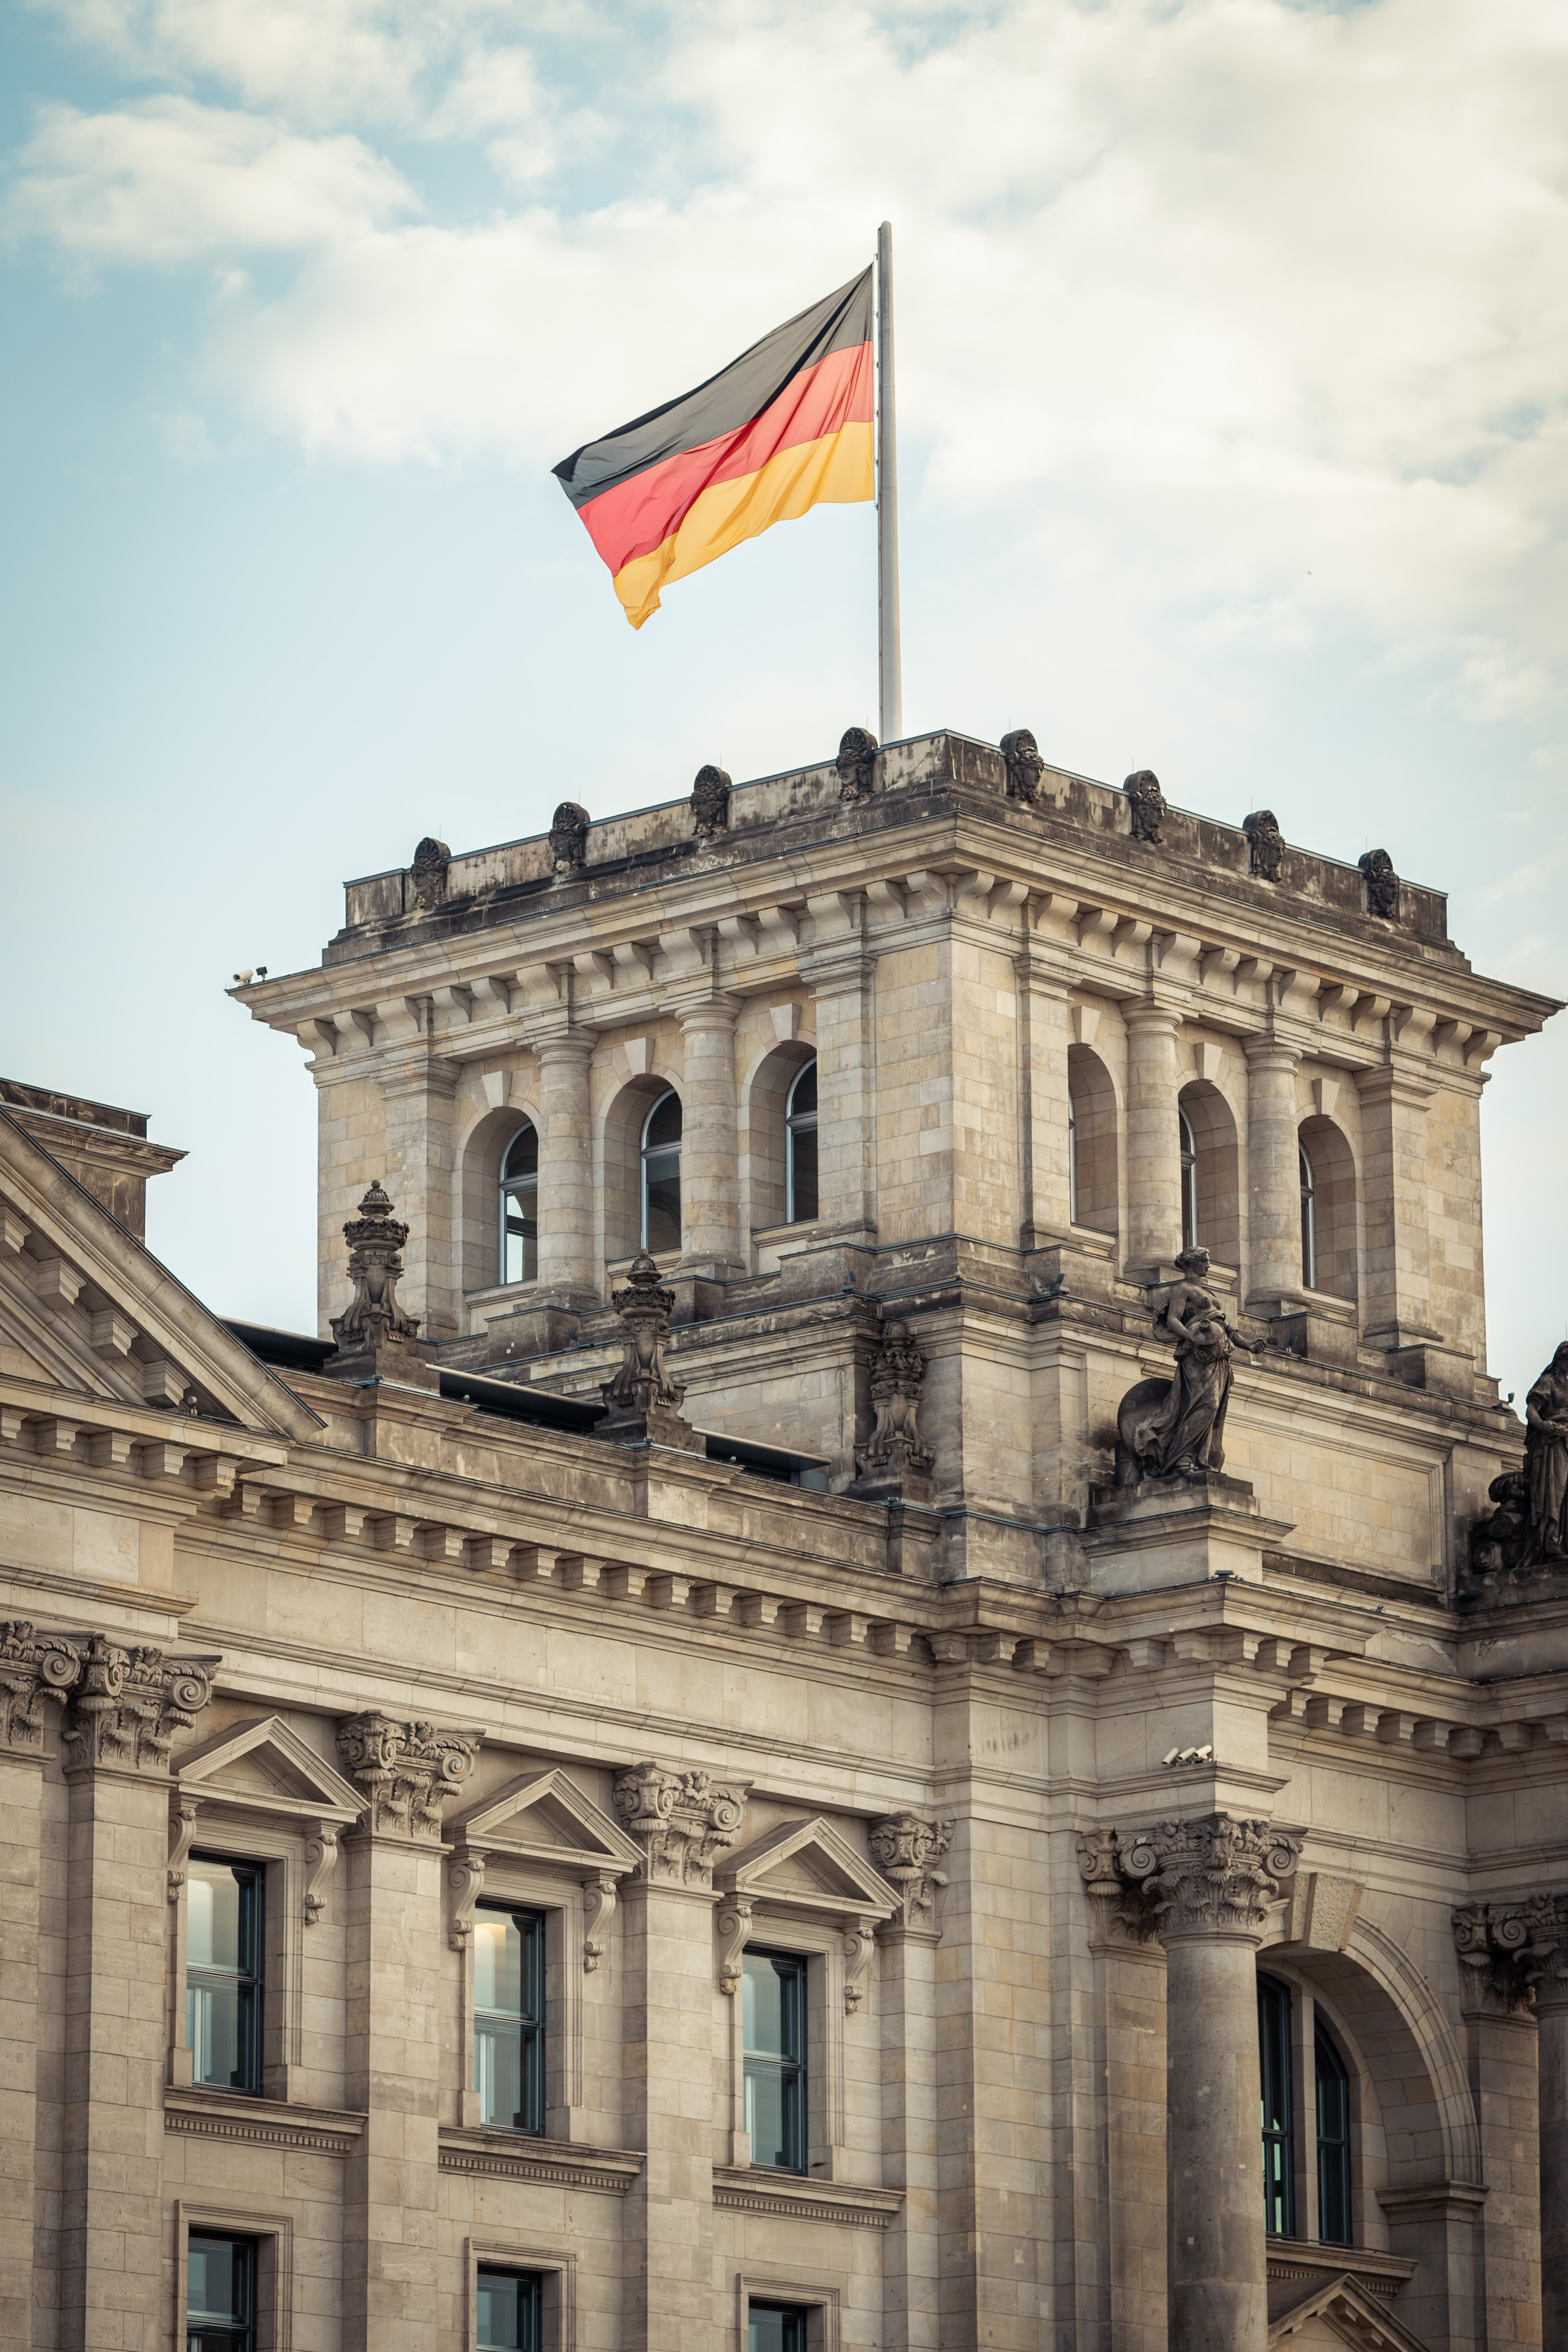Flag: (553, 268, 899, 633)
